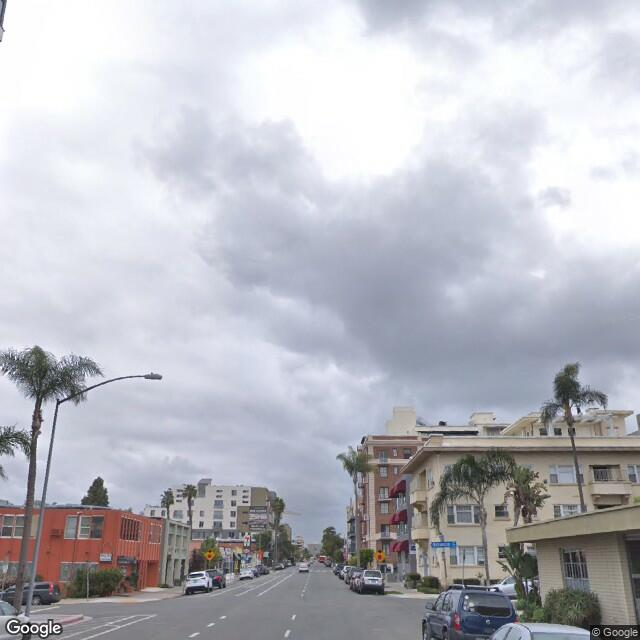light: (141, 370, 165, 380)
window: (561, 549, 592, 592), (88, 515, 108, 542), (65, 516, 76, 541)
